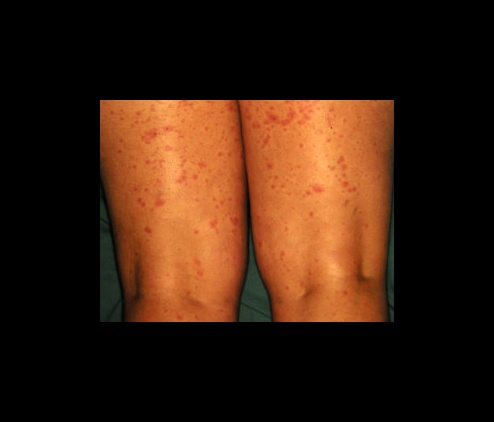SJS-TEN: (103, 73, 387, 259)
